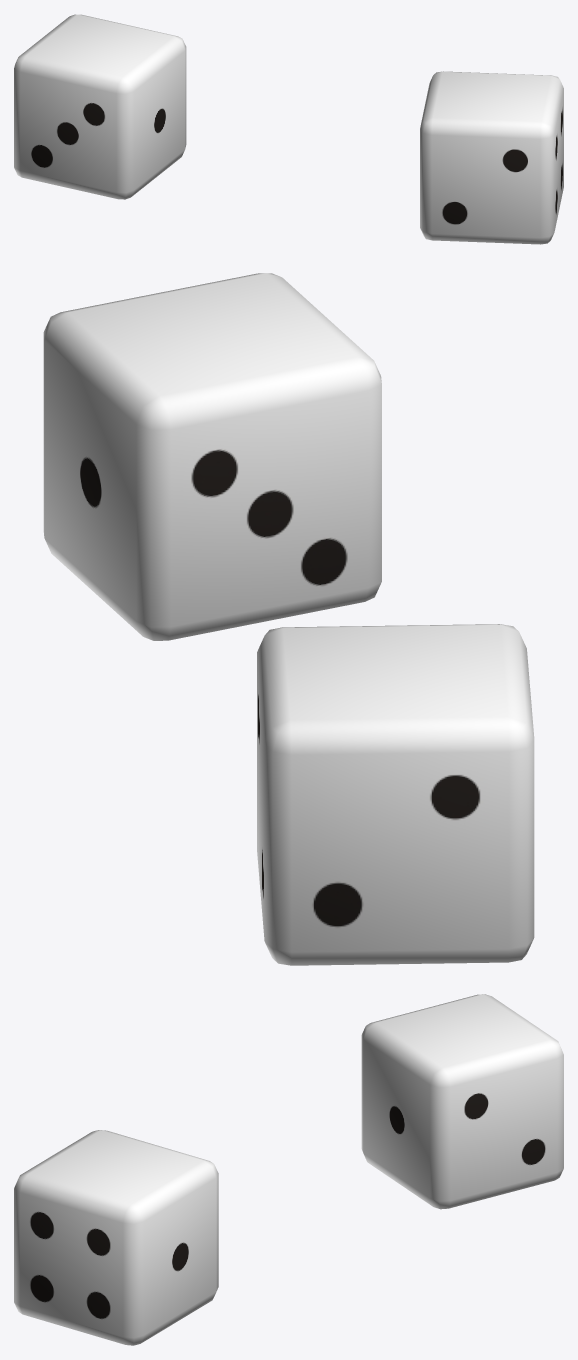
File: dado.gltf
3 renders of one model, top to bottom at view 1: azimuth 30°, elevation 25°; view 2: azimuth 150°, elevation 25°; view 3: azimuth 270°, elevation 25°, orthographic. The views are drawn at different scales.
Parts seen in each view (by area): view 1: d1, d2; view 2: d2, d1; view 3: d2, d1.
Boxes of the visible parts, box(x1,y1,x2,y2) form: d1: box(14, 14, 186, 199); d2: box(420, 71, 563, 244); d2: box(43, 273, 381, 640); d1: box(257, 624, 534, 965); d2: box(14, 1130, 218, 1345); d1: box(361, 994, 563, 1209).
Size of the model in its own units: 0.9776 by 0.2899 by 1.02.
1 material, 1 textured.
